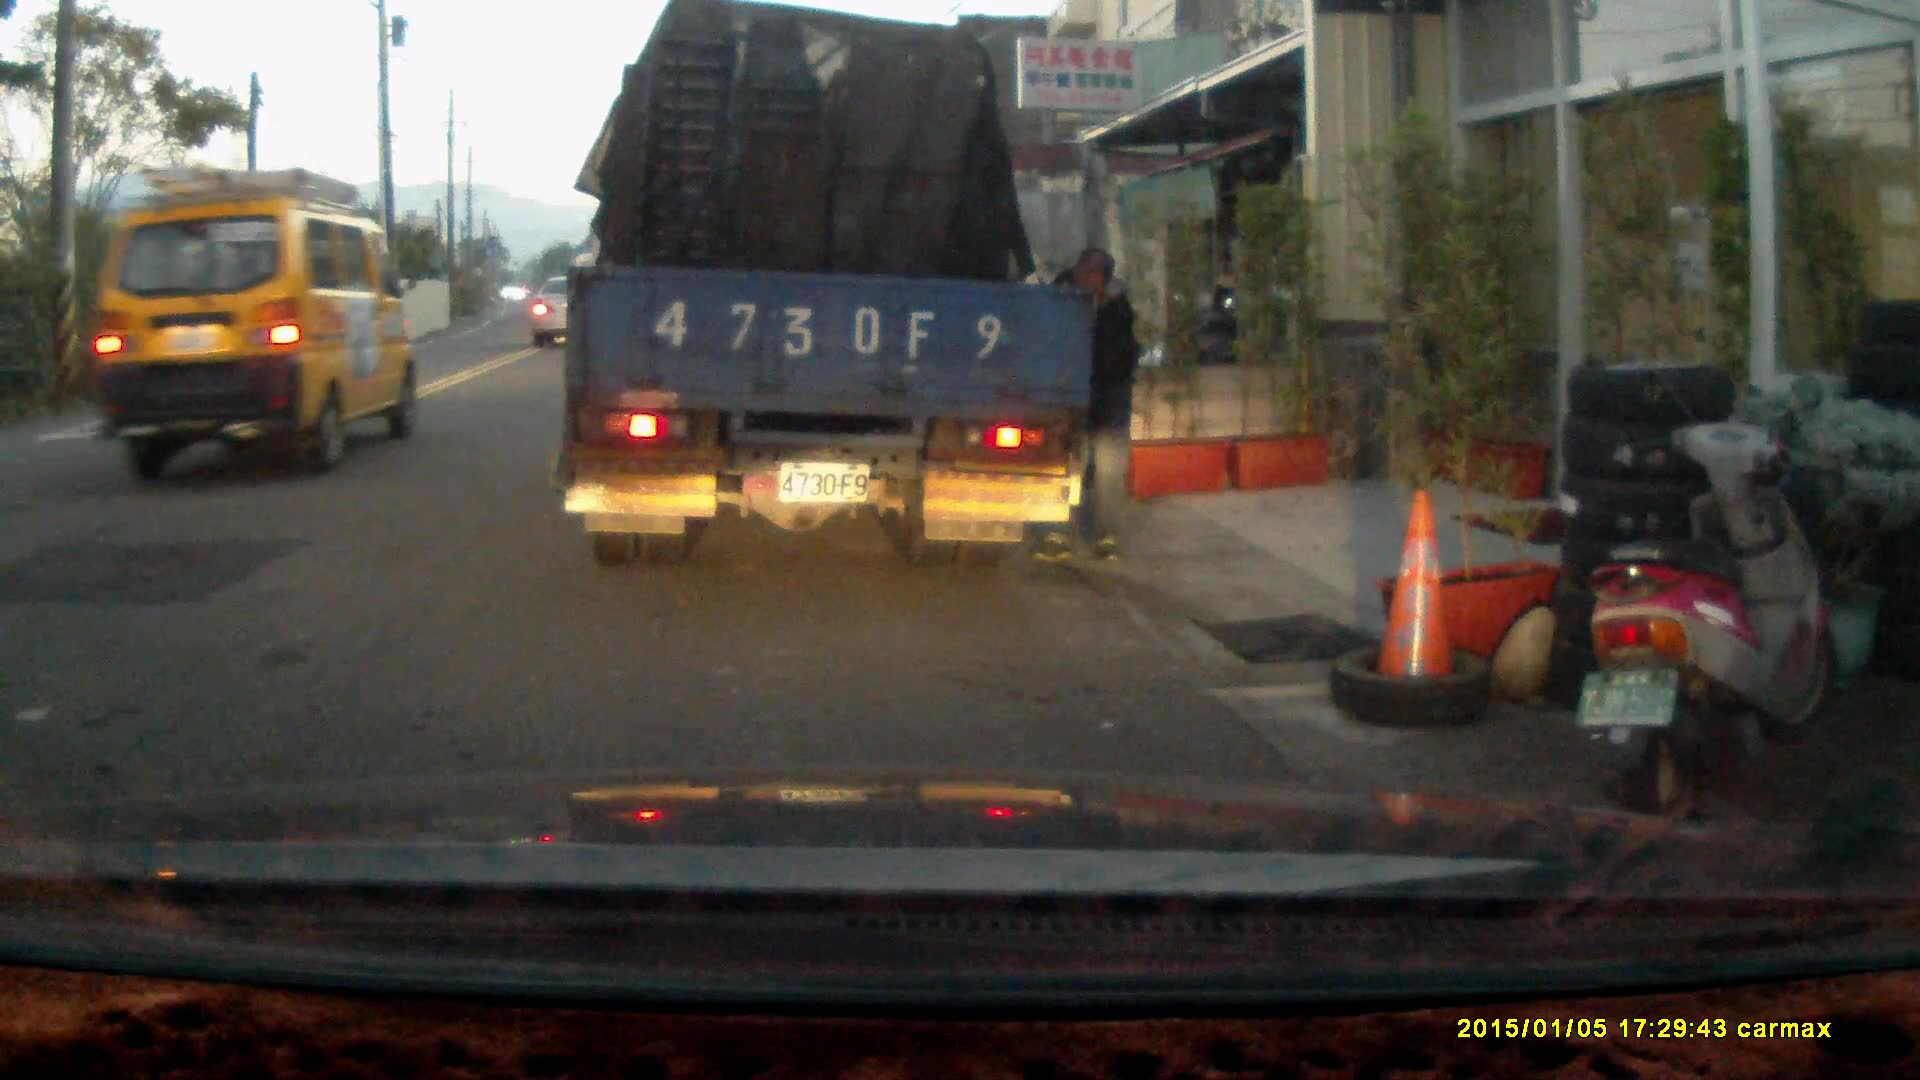pedestrian: (1024, 250, 1137, 563)
vehicle: (561, 24, 1082, 561), (93, 163, 412, 480), (532, 275, 595, 346)
